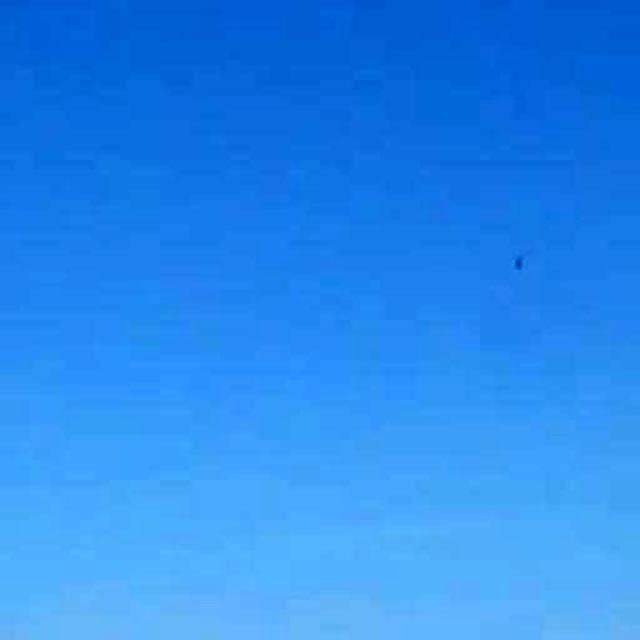drone: (496, 225, 540, 298)
